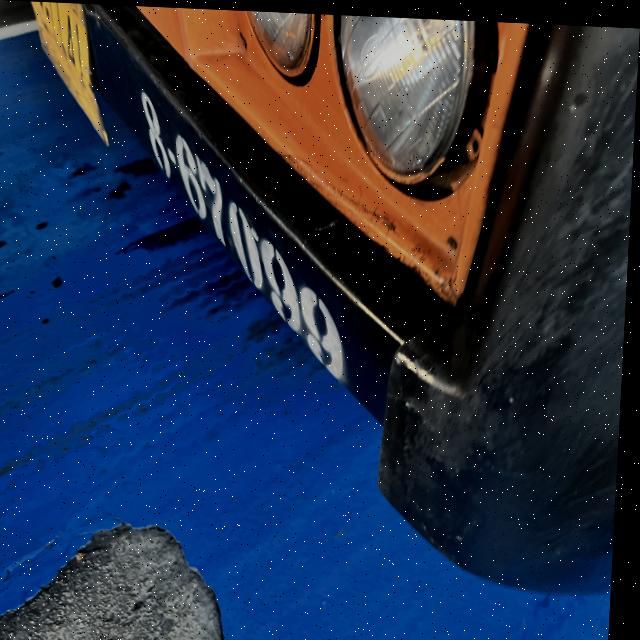BMTA-bus: (0, 0, 640, 594)
Bus Side Number: (137, 70, 365, 416)
